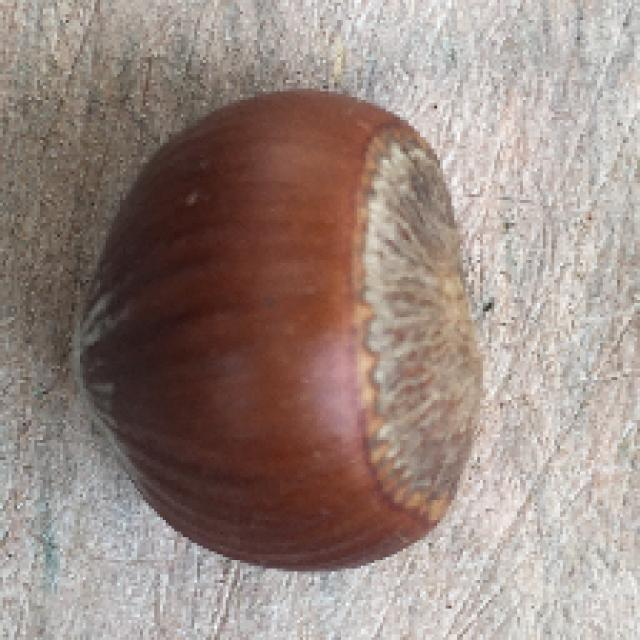qualityHazelnut: (75, 80, 486, 571)
